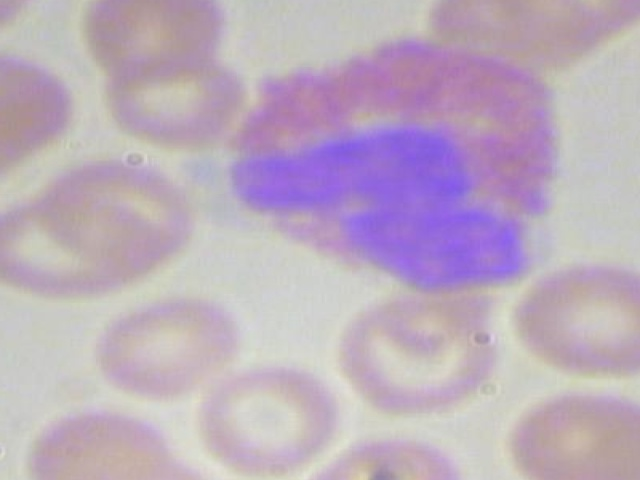RBC: (331, 282, 511, 424), (24, 151, 215, 268), (88, 284, 239, 406), (194, 355, 345, 476), (491, 257, 640, 377), (59, 0, 250, 83), (0, 40, 79, 158), (634, 196, 640, 316)
WBC: (202, 28, 573, 294)
